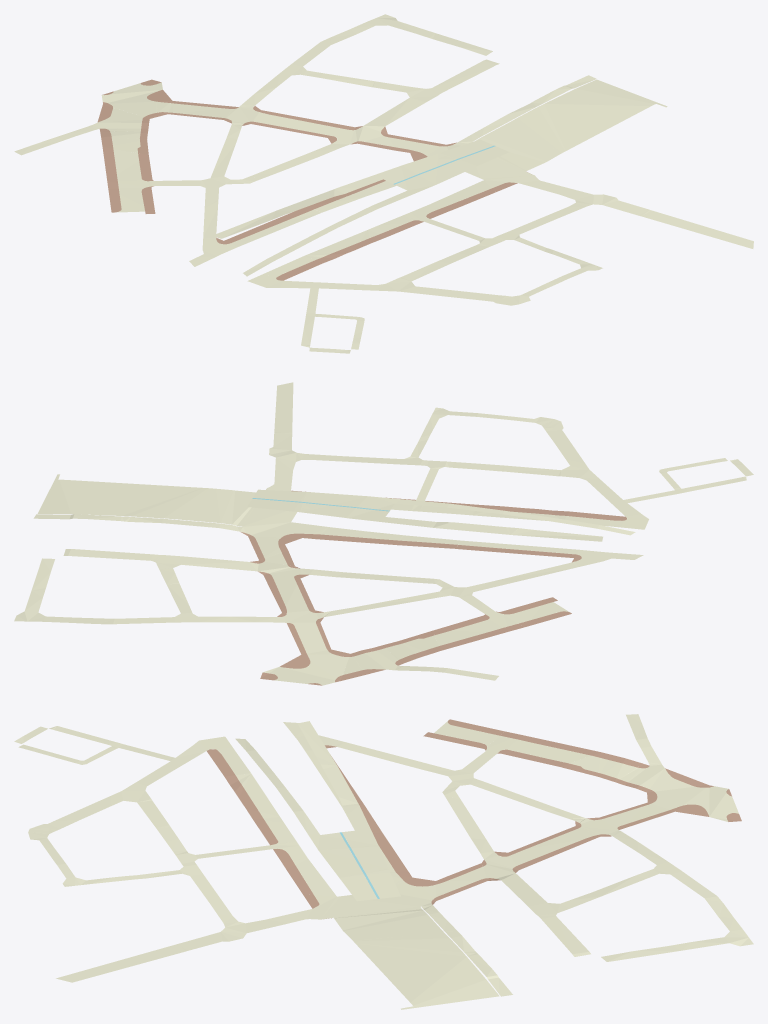
Rendered from data81.glb.
The picture shows the model from 3 angles, top to bottom: view 1: azimuth 30°, elevation 25°; view 2: azimuth 150°, elevation 25°; view 3: azimuth 270°, elevation 25°; orthographic projection. The views are drawn at different scales.
Size of the model in its own units: 292 by 15.85 by 318.
